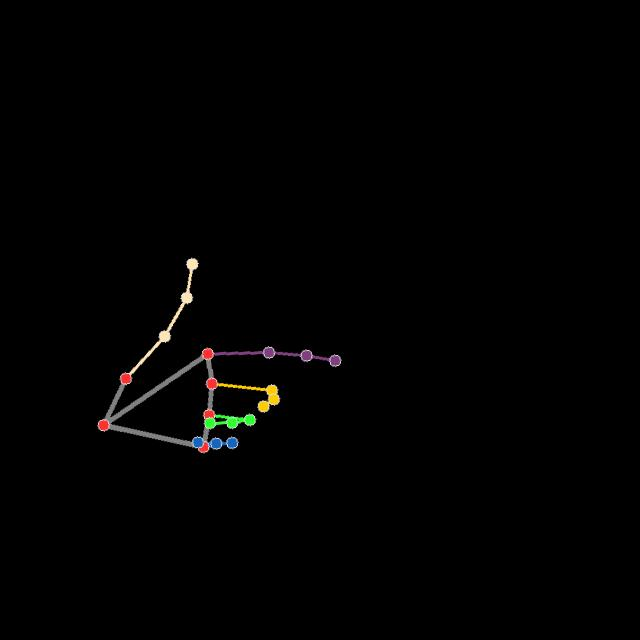gun: (98, 258, 344, 456)
